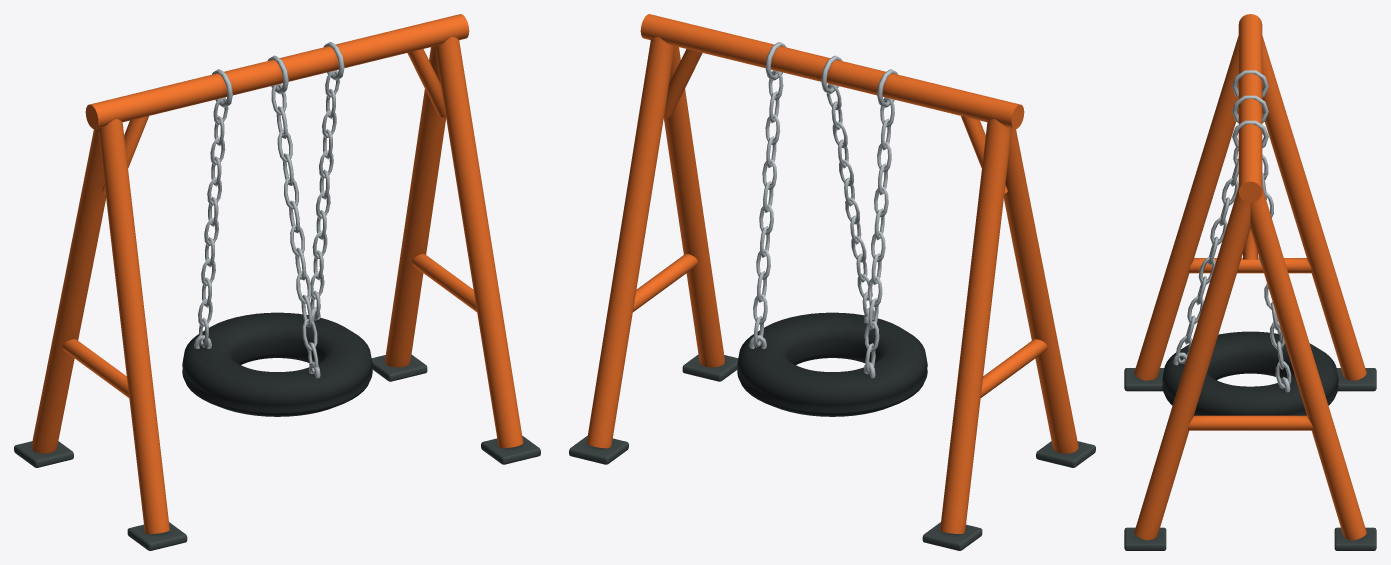
File: tire-swing.fbx
3 renders of one model, left to right at view 1: azimuth 30°, elevation 25°; view 2: azimuth 150°, elevation 25°; view 3: azimuth 270°, elevation 25°, orthographic. The views are drawn at different scales.
Parts seen in each view (by area): view 1: tire-swing; view 2: tire-swing; view 3: tire-swing.
Boxes of the visible parts, x1=… form: tire-swing: x1=14, y1=14, x2=540, y2=550; tire-swing: x1=569, y1=14, x2=1095, y2=550; tire-swing: x1=1124, y1=14, x2=1376, y2=550.
Size of the model in its own units: 50000 by 48292 by 30000.
1 material, 1 textured.
